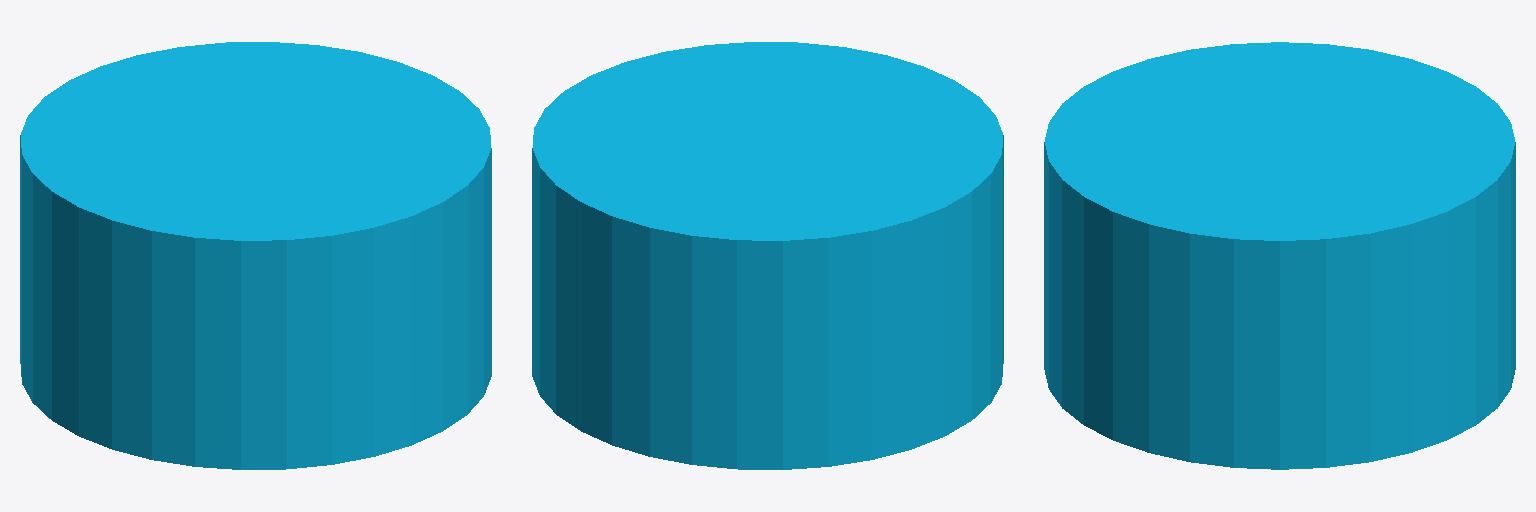
The robot description file, URDF, robot "br_robot":
<?xml version="1.0"?>
<robot name="br_robot">

  <material name="br_silver_alloy">
    <color rgba="0.78 0.80 0.84 1.0"/>
  </material>
  <material name="br_cyan">
    <color rgba="0.10 0.78 0.96 1.0"/>
  </material>

  <!-- Base link: Exact Fusion 360 BR v7 CAD Mesh (702.5 x 696.5 x 696.0 mm) -->
  <link name="base_link">
    <visual>
      <origin xyz="0 0 0" rpy="0 0 0"/>
      <geometry>
        <mesh filename="package://br_nav_sandbox/meshes/br_robot_v7.stl" scale="1.0 1.0 1.0"/>
      </geometry>
      <material name="br_silver_alloy"/>
    </visual>
    <collision>
      <origin xyz="0 0 0.348" rpy="0 0 0"/>
      <geometry>
        <box size="0.7025 0.6965 0.6960"/>
      </geometry>
    </collision>
    <inertial>
      <origin xyz="0 0 0.26" rpy="0 0 0"/>
      <mass value="22.5"/>
      <inertia ixx="1.15" ixy="0.0" ixz="0.0" iyy="1.15" iyz="0.0" izz="1.82"/>
    </inertial>
  </link>

  <!-- 2D LiDAR sensor link mounted on the BR v7 deck -->
  <link name="lidar_link">
    <visual>
      <origin xyz="0 0 0" rpy="0 0 0"/>
      <geometry>
        <cylinder radius="0.042" length="0.045"/>
      </geometry>
      <material name="br_cyan"/>
    </visual>
  </link>

  <joint name="lidar_joint" type="fixed">
    <parent link="base_link"/>
    <child link="lidar_link"/>
    <origin xyz="0.0 0.0 0.25" rpy="0 0 0"/>
  </joint>

</robot>

--- What the picture shows (computed from the rendered views, not written in the file) ---
Views: 3 orthographic renders of the robot side by side, from view 1: azimuth 30°, elevation 25°; view 2: azimuth 150°, elevation 25°; view 3: azimuth 270°, elevation 25°.
Robot: br_robot — 2 links, 1 joints (1 fixed); root link base_link; default pose: every joint at zero.
Visible links, largest first — view 1: lidar_link; view 2: lidar_link; view 3: lidar_link.
Boxes of the visible links, left/top/right/bottom form: lidar_link: left=20, top=42, right=491, bottom=469; lidar_link: left=532, top=42, right=1003, bottom=469; lidar_link: left=1044, top=42, right=1515, bottom=469.
Size in the robot's own frame: 0.084 by 0.084 by 0.045 metres.
Meshes: 1 distinct files referenced, 0 mesh visuals loaded (none loaded); not drawn: 1 (reference not matched to a file when rendering).
